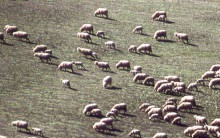sheep: (74, 46, 101, 61), (177, 125, 204, 138), (74, 29, 94, 45), (94, 114, 114, 129), (106, 102, 129, 115), (11, 28, 32, 42), (78, 102, 99, 116), (91, 56, 109, 72), (2, 21, 21, 35), (157, 77, 172, 94), (135, 40, 153, 54), (112, 58, 130, 72), (29, 42, 48, 55), (148, 9, 168, 21), (31, 52, 51, 64), (92, 8, 111, 20), (172, 31, 191, 43), (101, 73, 115, 89), (163, 99, 177, 115), (201, 69, 217, 83), (13, 115, 30, 128), (58, 76, 78, 87), (57, 60, 77, 71), (179, 101, 198, 112), (154, 28, 168, 42), (100, 37, 114, 51), (186, 81, 200, 95), (174, 81, 185, 98), (131, 68, 145, 81), (122, 128, 140, 138), (165, 111, 183, 121), (87, 108, 103, 119), (191, 112, 205, 124), (169, 72, 181, 86), (79, 23, 94, 33), (130, 24, 141, 36), (96, 29, 107, 38), (148, 104, 157, 115), (181, 95, 194, 102), (139, 100, 147, 110), (153, 130, 162, 138)
